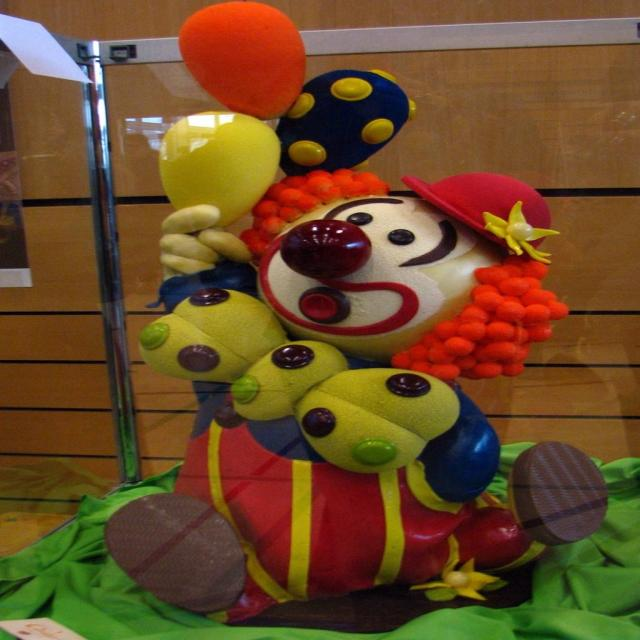Toy: (103, 0, 608, 632)
